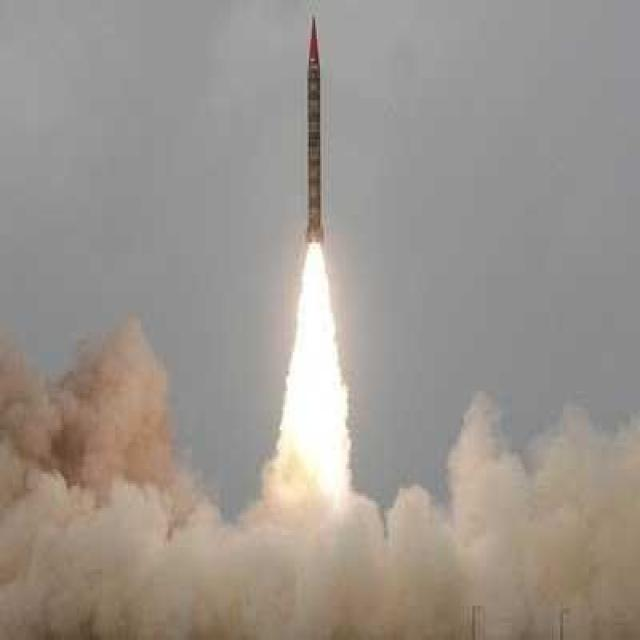missile: (305, 13, 325, 250)
